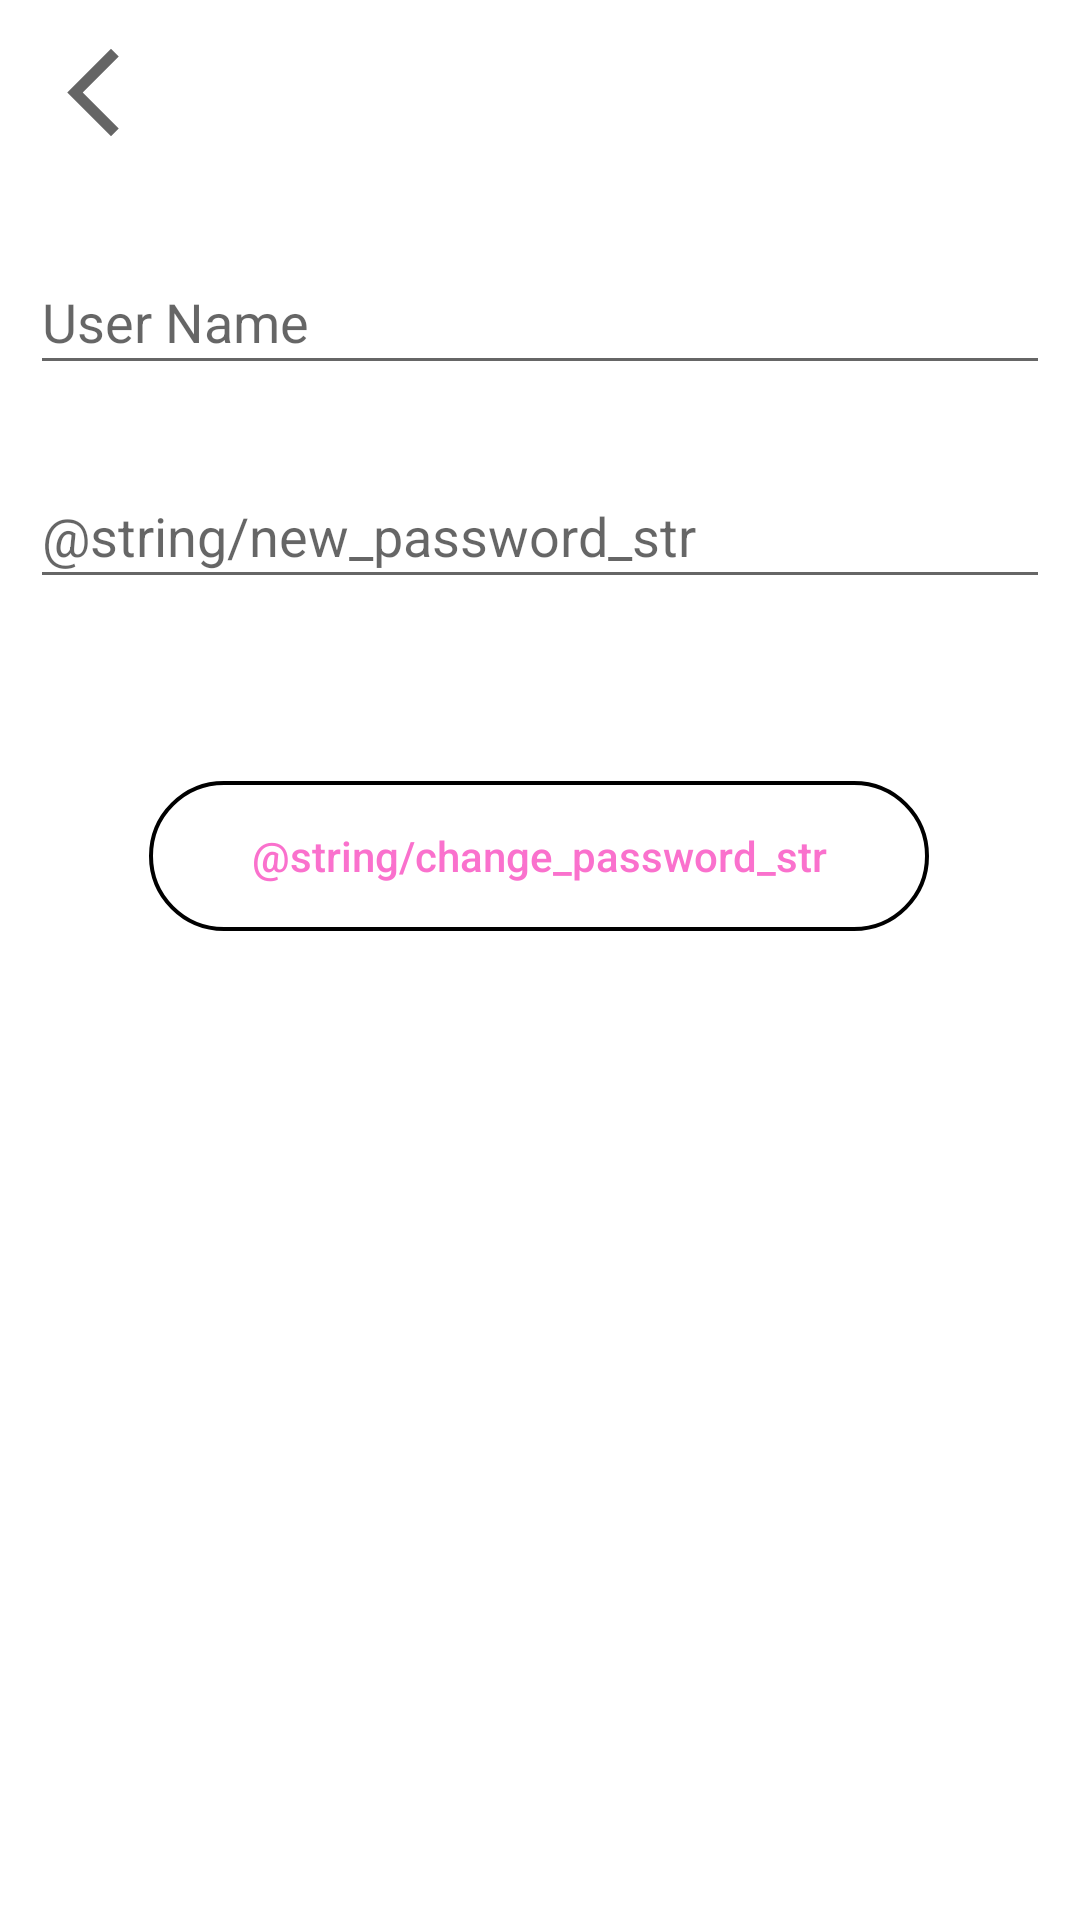

Where icons sit on this 1080px x 1920px app screen, as (x1, y1, x2, y2):
arrow back: (67, 49, 119, 136)
